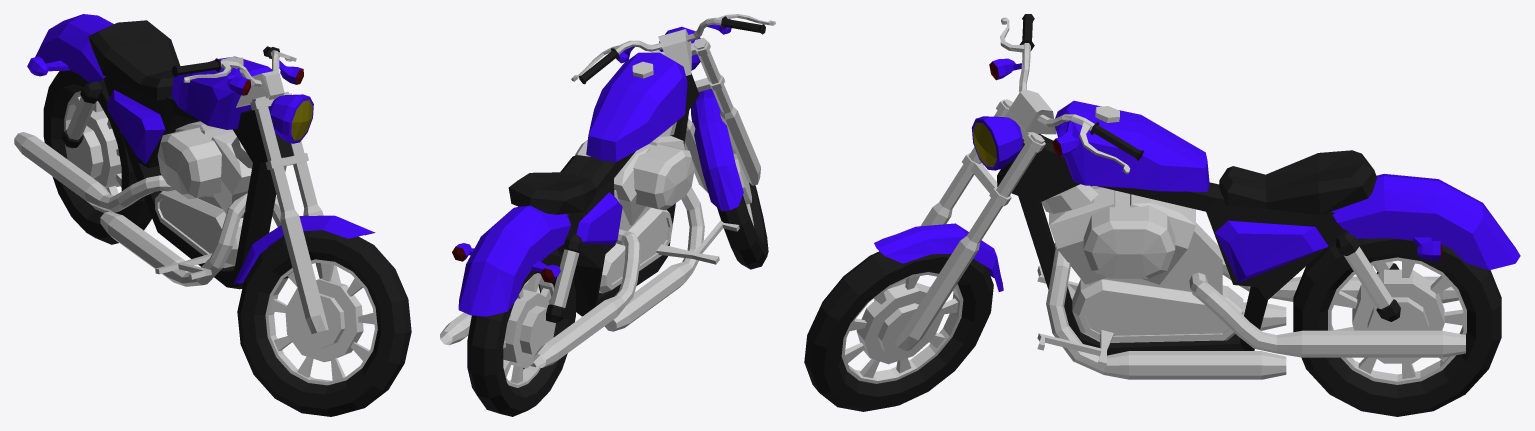
File: HDunity.fbx
The picture shows the model from 3 angles, left to right: view 1: azimuth 30°, elevation 25°; view 2: azimuth 150°, elevation 25°; view 3: azimuth 270°, elevation 25°; orthographic projection. The views are drawn at different scales.
Visible parts, largest first — view 1: HDwheel, HDbody, HDengine, Emis; view 2: HDbody, HDengine, HDwheel, Emis; view 3: HDbody, HDengine, HDwheel, Emis.
Part boxes in pixels (left/top/right/bottom): HDwheel: left=172, top=46, right=411, bottom=416; HDbody: left=27, top=14, right=293, bottom=289; HDengine: left=14, top=121, right=286, bottom=286; Emis: left=242, top=69, right=312, bottom=140; HDbody: left=456, top=52, right=699, bottom=416; HDengine: left=440, top=135, right=739, bottom=367; HDwheel: left=571, top=14, right=775, bottom=269; Emis: left=452, top=246, right=554, bottom=283; HDbody: left=997, top=100, right=1520, bottom=416; HDengine: left=1037, top=185, right=1465, bottom=379; HDwheel: left=804, top=14, right=1143, bottom=411; Emis: left=973, top=61, right=1442, bottom=260.
Size of the model in its own units: 0.6596 by 1.16 by 2.13.
